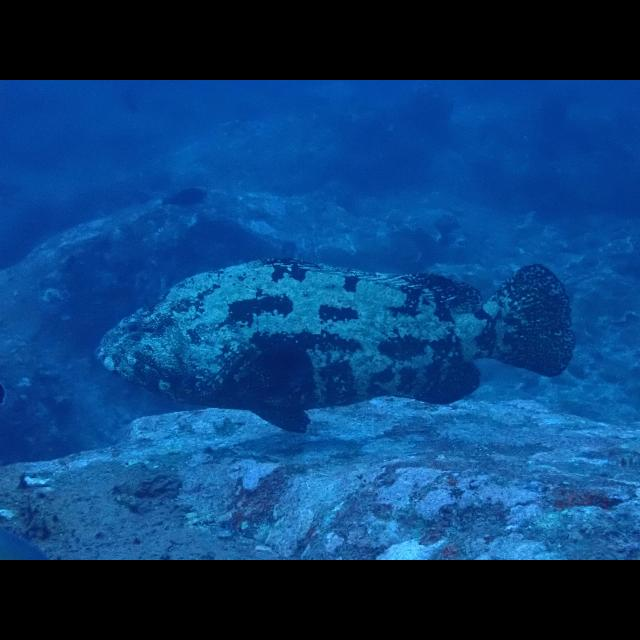Groupers: (94, 256, 582, 432)
